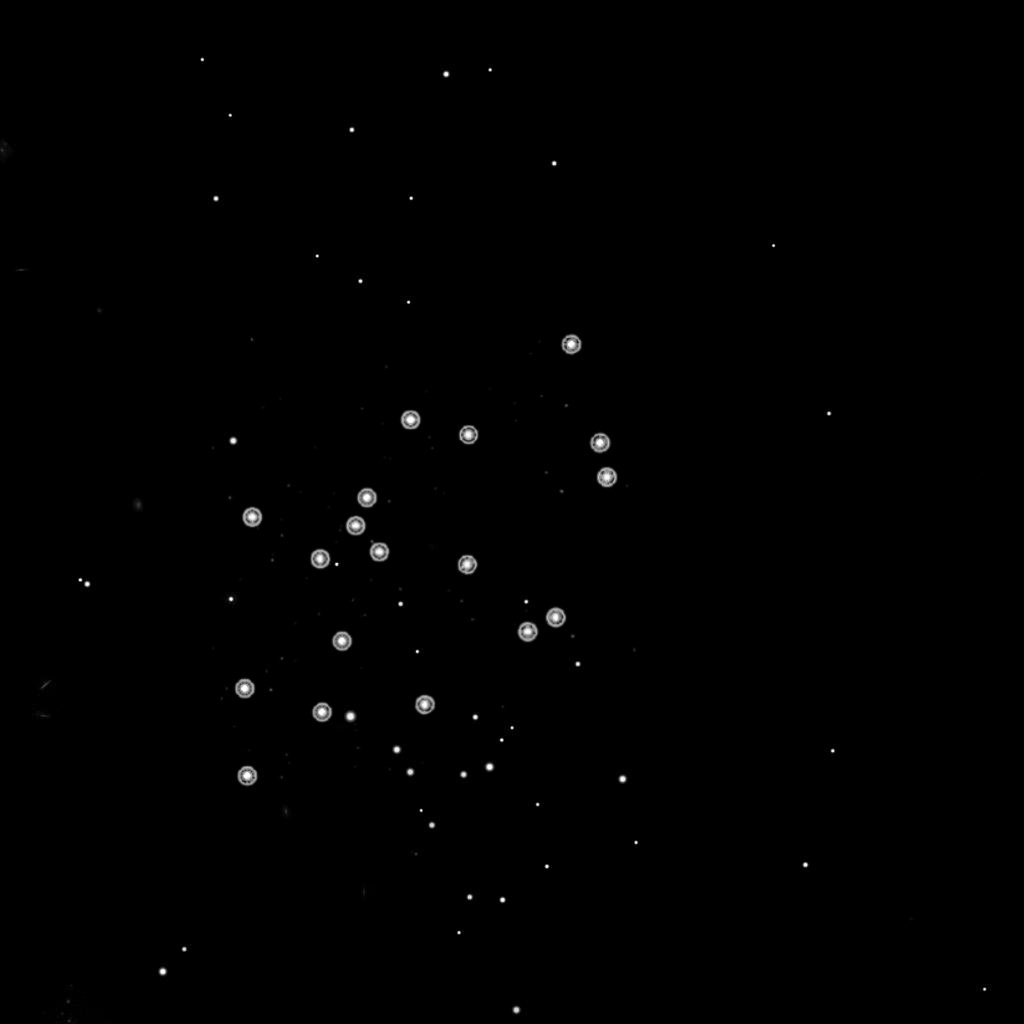canis_major: (303, 404, 487, 577)
